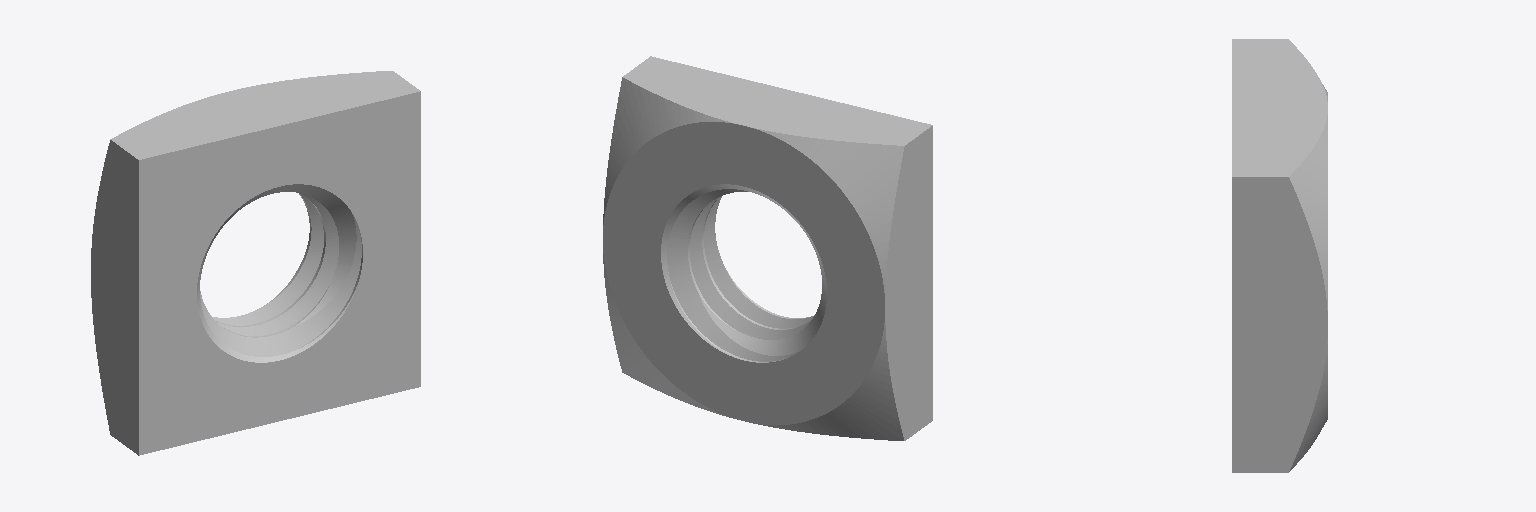
Rendered from model3_nut_corr.obj.
3 views of the same model, side by side, from view 1: azimuth 30°, elevation 25°; view 2: azimuth 150°, elevation 25°; view 3: azimuth 270°, elevation 25° (orthographic).
Bounding box in the file's own units: 0.0026 × 0.0026 × 0.0008.